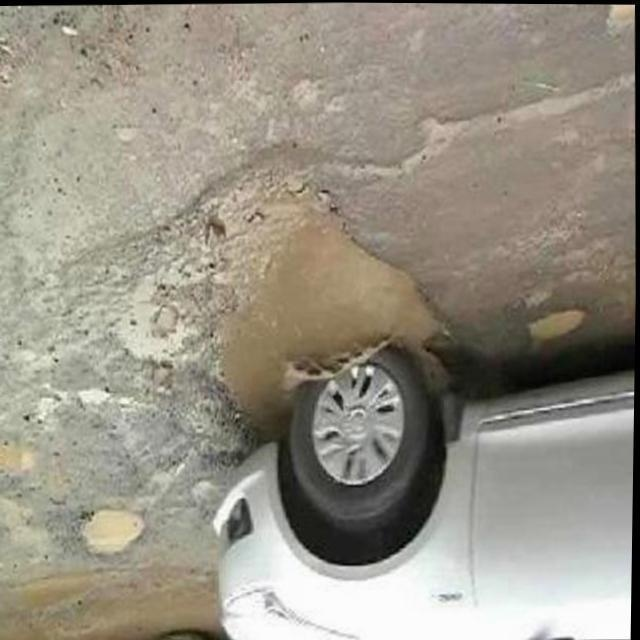pothole: (192, 188, 440, 430), (65, 500, 152, 564), (528, 276, 586, 348)
